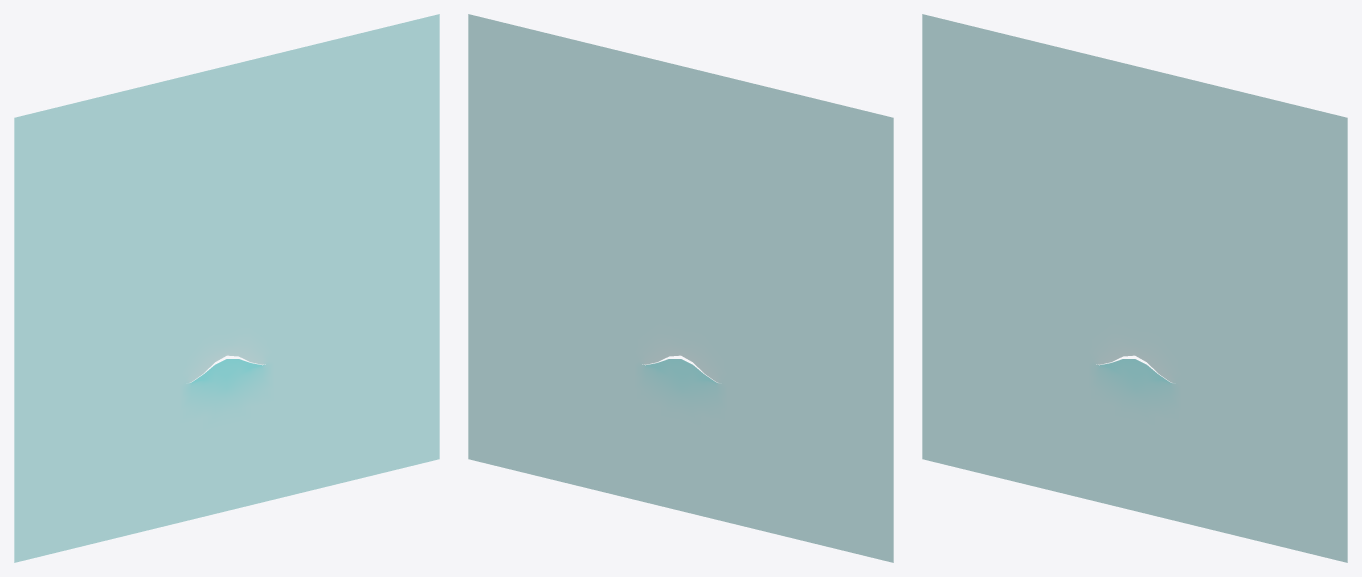
The model's file is FacePlaneMouthCutout.FBX.
3 renders of one model, left to right at view 1: azimuth 30°, elevation 25°; view 2: azimuth 150°, elevation 25°; view 3: azimuth 330°, elevation 25°, orthographic.
Parts seen in each view (by area): view 1: Plane005; view 2: Plane005; view 3: Plane005.
Part boxes in pixels (x1=…): Plane005: x1=14, y1=14, x2=439, y2=562; Plane005: x1=468, y1=14, x2=893, y2=562; Plane005: x1=922, y1=14, x2=1347, y2=562.
Size of the model in its own units: 27.56 by 27.56 by 4.49e-06.
